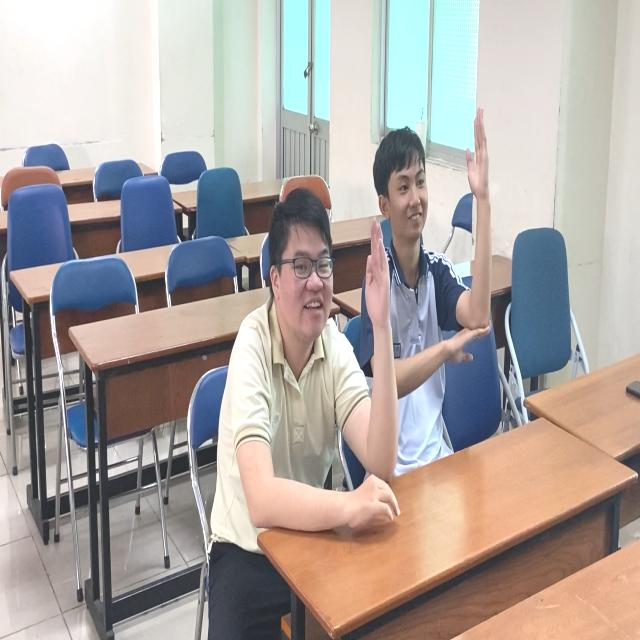raise_hand: (207, 194, 405, 565), (359, 93, 499, 501)
